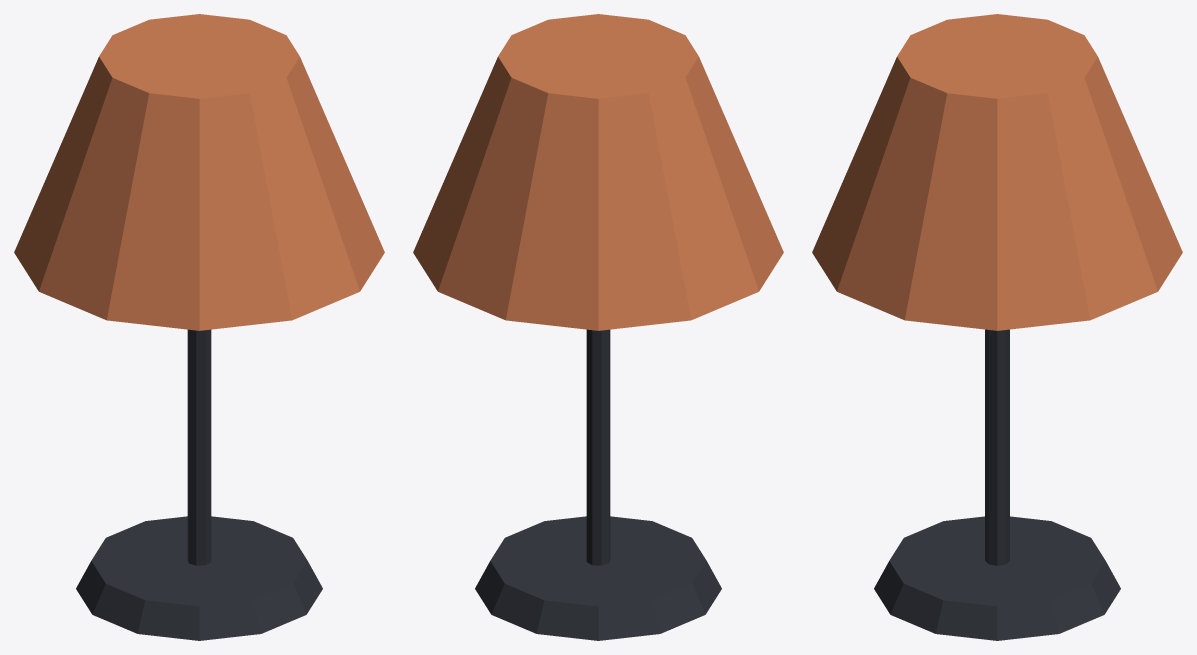
The model's file is lampara_ar.glb.
3 renders of one model, left to right at view 1: azimuth 30°, elevation 25°; view 2: azimuth 150°, elevation 25°; view 3: azimuth 270°, elevation 25°, orthographic.
Parts seen in each view (by area): view 1: Lampara; view 2: Lampara; view 3: Lampara.
Part boxes in pixels (left/top/right/bottom): Lampara: left=14, top=14, right=384, bottom=640; Lampara: left=413, top=14, right=783, bottom=640; Lampara: left=812, top=14, right=1182, bottom=640.
Size of the model in its own units: 0.24 by 0.38 by 0.24.
